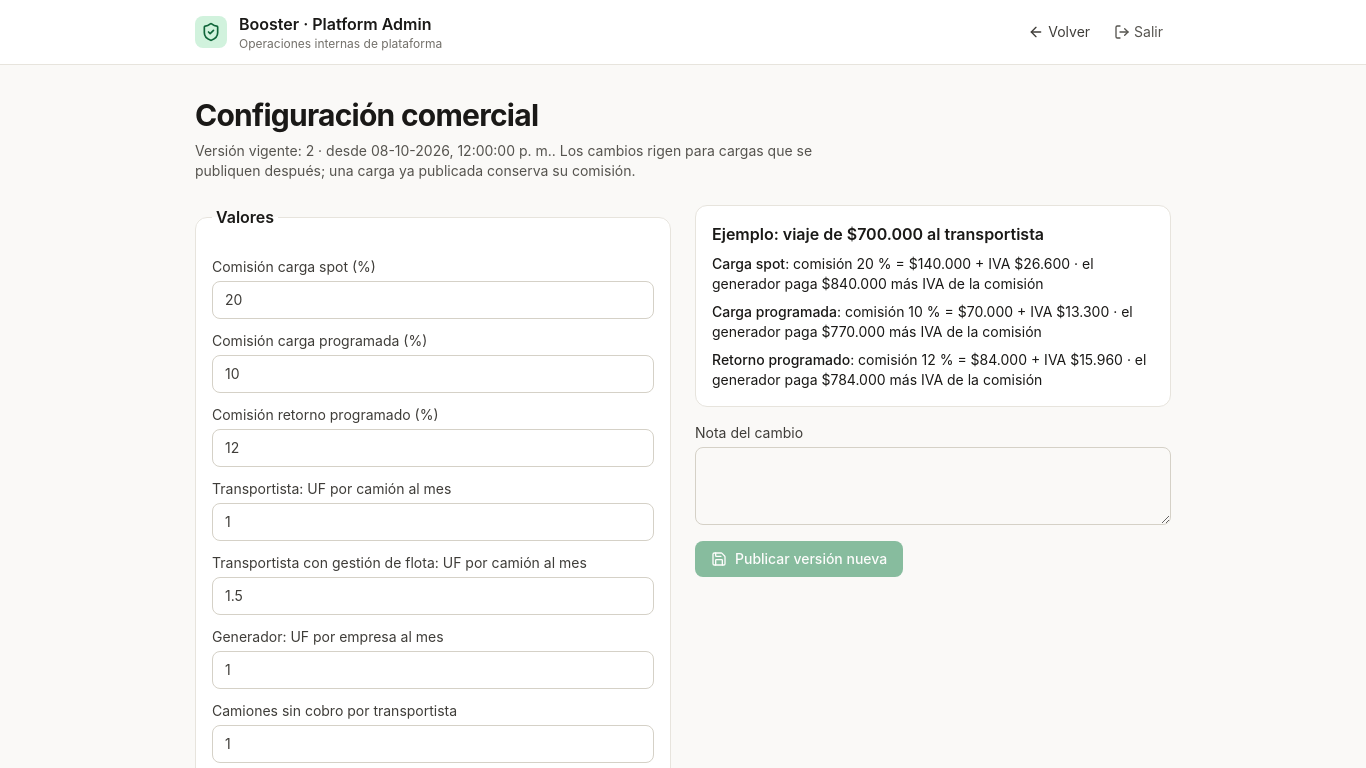
Test: PlatformAdminConfiguracionComercialRoute (ADR-079 §3) › error del servidor al publicar se muestra
In the text box labelled "Nota del cambio": (933, 486) 695,447 -> 1171,525, type "x"
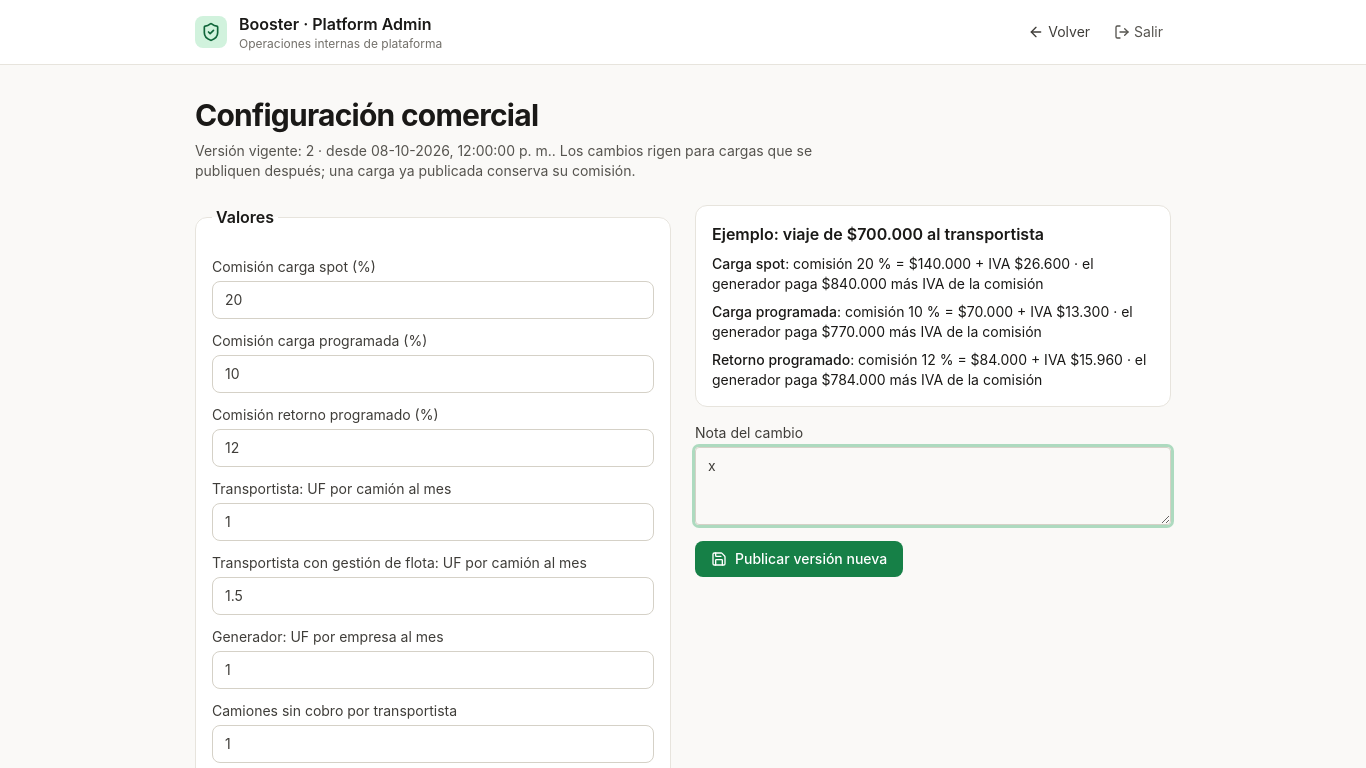
Click the button "Publicar versión nueva": (799, 559) 695,541 -> 903,577
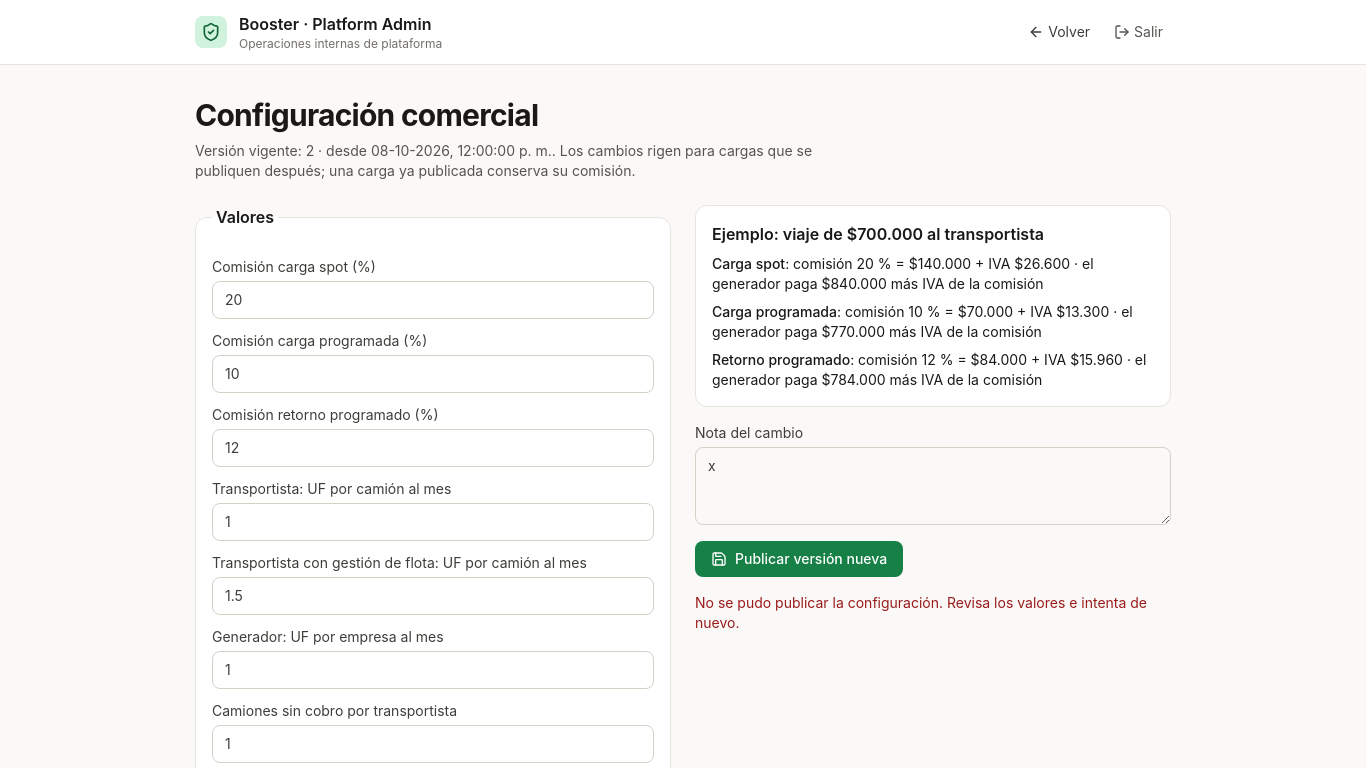
Expected: the message shows "No se pudo publicar", 695,594 -> 1147,631
